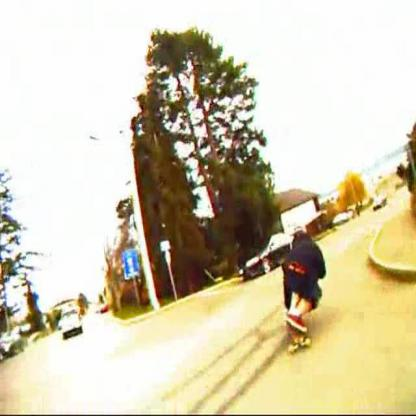other: (273, 299, 342, 361), (330, 163, 373, 227)
